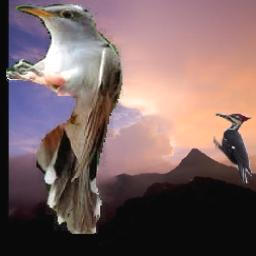Cuckoo: (6, 4, 123, 234)
Woodpecker: (214, 114, 252, 184)
